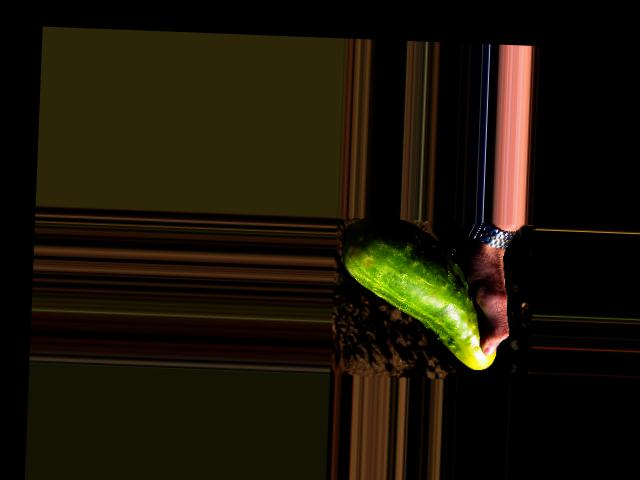cucumber: (336, 216, 501, 370)
